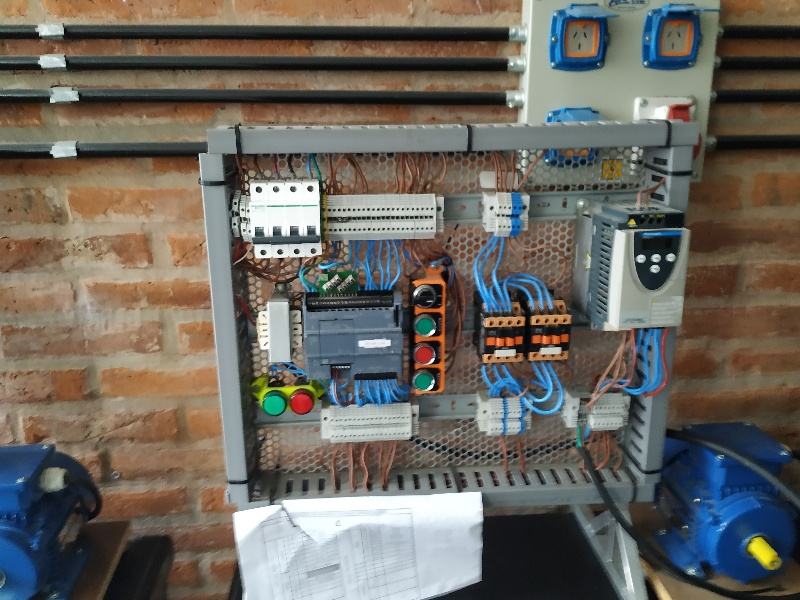Tablero 4: (215, 143, 693, 492)
